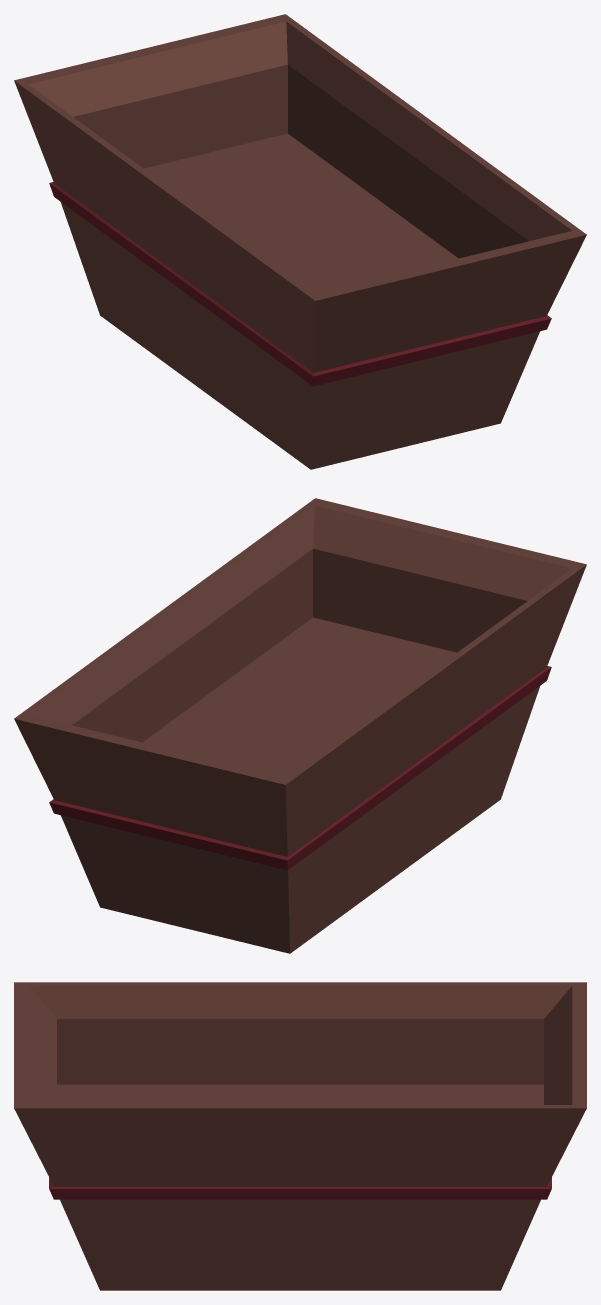
File: Mangiatoia .fbx
3 views of the same model, one above another, from view 1: azimuth 30°, elevation 25°; view 2: azimuth 150°, elevation 25°; view 3: azimuth 270°, elevation 25° (orthographic). The views are drawn at different scales.
Visible parts, largest first — view 1: Mangiatoia; view 2: Mangiatoia; view 3: Mangiatoia.
Boxes of the visible parts, bbox=[...] form: Mangiatoia: bbox=[14, 14, 586, 469]; Mangiatoia: bbox=[14, 498, 586, 953]; Mangiatoia: bbox=[14, 982, 586, 1290].
Bounding box in the file's own units: 108 × 80.65 × 208.
